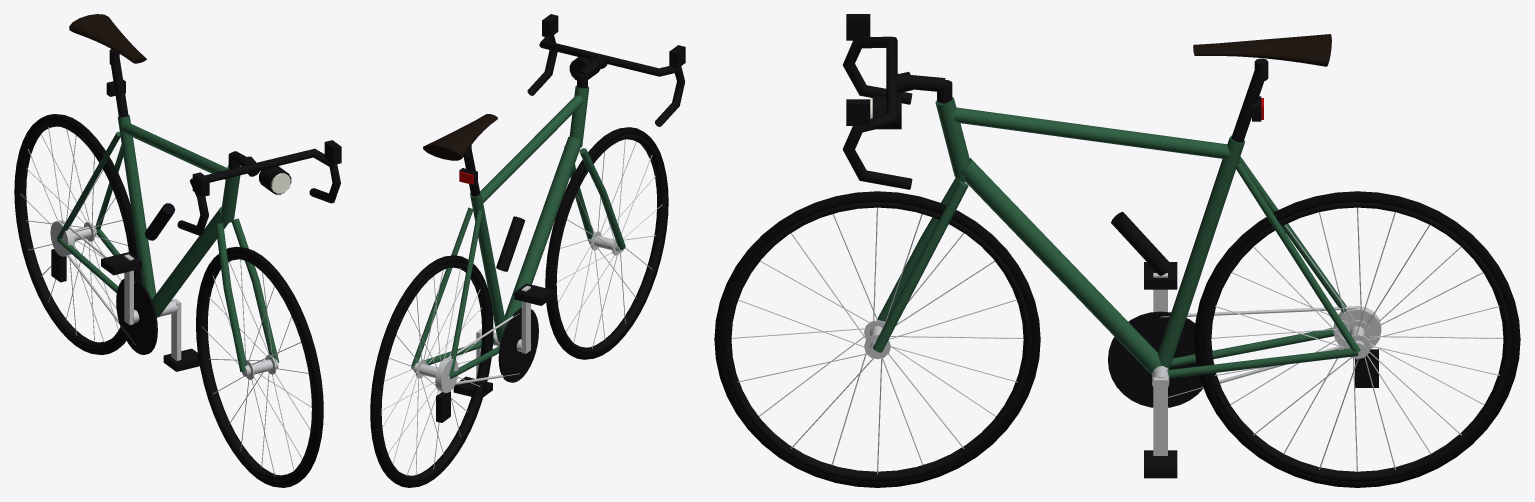
The model's file is road.glb.
3 renders of one model, left to right at view 1: azimuth 30°, elevation 25°; view 2: azimuth 150°, elevation 25°; view 3: azimuth 270°, elevation 25°, orthographic. The views are drawn at different scales.
Parts seen in each view (by area): view 1: frame, wheel_front, wheel_rear, fork, crank, light_front, pedal_r, pedal_l; view 2: frame, wheel_rear, wheel_front, fork, crank, pedal_r, pedal_l; view 3: frame, wheel_rear, wheel_front, fork, crank, pedal_l.
Boxes of the visible parts, x1=… form: frame: x1=51, y1=14, x2=240, y2=345; wheel_front: x1=196, y1=246, x2=323, y2=487; wheel_rear: x1=14, y1=114, x2=141, y2=354; fork: x1=177, y1=140, x2=341, y2=371; crank: x1=116, y1=254, x2=181, y2=360; light_front: x1=259, y1=166, x2=291, y2=194; pedal_r: x1=101, y1=252, x2=141, y2=275; pedal_l: x1=163, y1=348, x2=199, y2=371; frame: x1=411, y1=85, x2=589, y2=422; wheel_rear: x1=370, y1=255, x2=493, y2=487; wheel_front: x1=545, y1=127, x2=668, y2=359; fork: x1=527, y1=14, x2=685, y2=249; crank: x1=476, y1=286, x2=538, y2=382; pedal_r: x1=514, y1=283, x2=553, y2=305; pedal_l: x1=453, y1=376, x2=492, y2=396; frame: x1=935, y1=34, x2=1378, y2=397; wheel_rear: x1=1194, y1=191, x2=1520, y2=487; wheel_front: x1=714, y1=191, x2=1040, y2=487; fork: x1=842, y1=14, x2=968, y2=352; crank: x1=1108, y1=273, x2=1212, y2=455; pedal_l: x1=1144, y1=450, x2=1177, y2=478.
Size of the model in its own units: 0.445 by 1.03 by 1.68.
